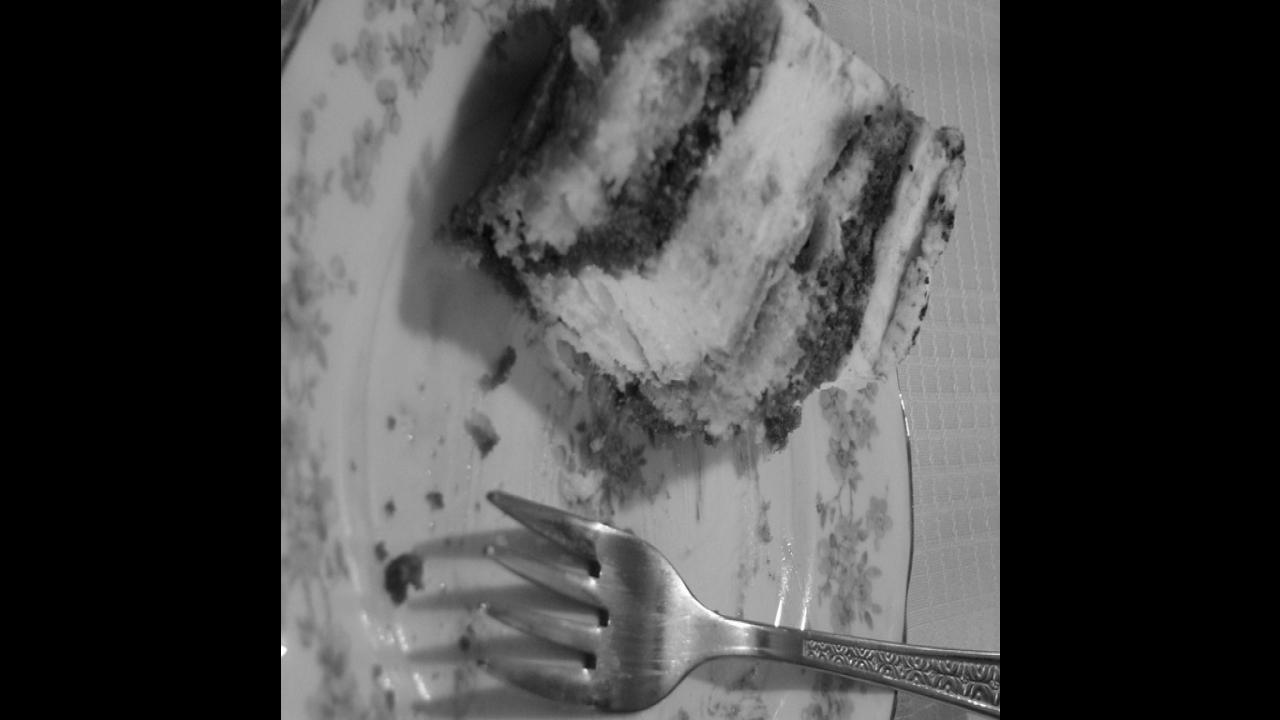fork: (470, 482, 1000, 720)
